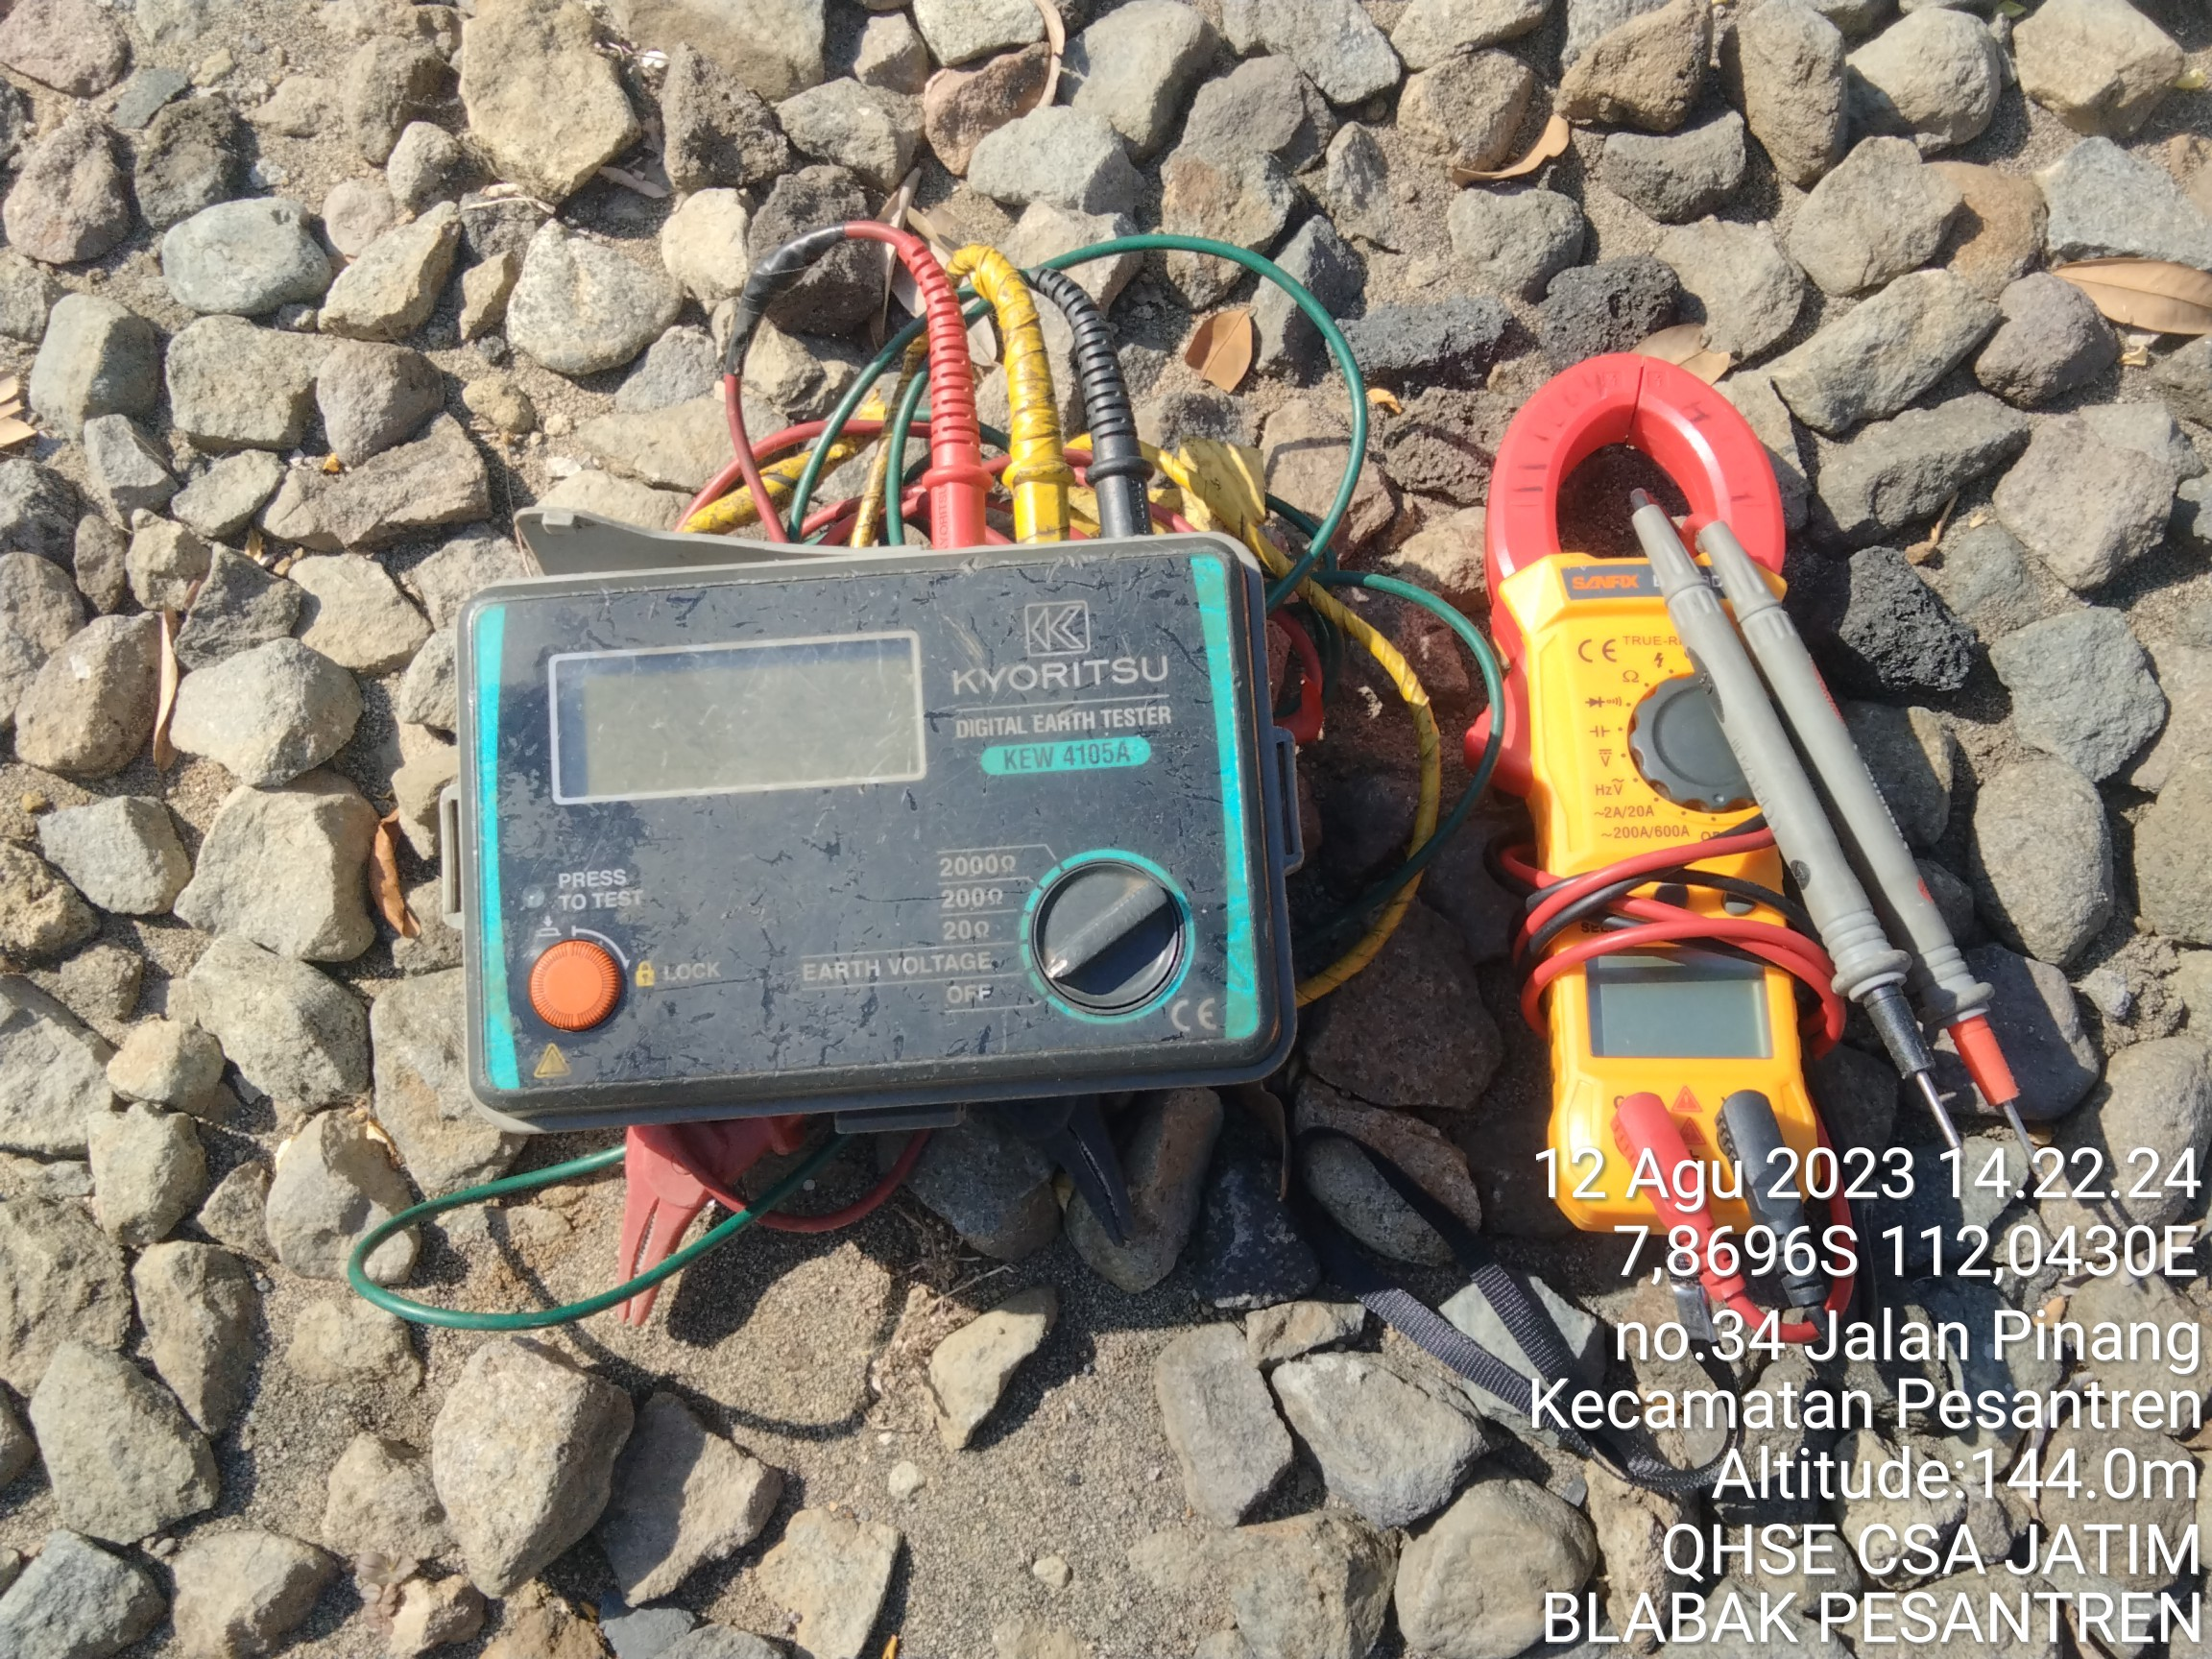EARTH_GROUNDING_TESTER: (448, 505, 1310, 1124)
